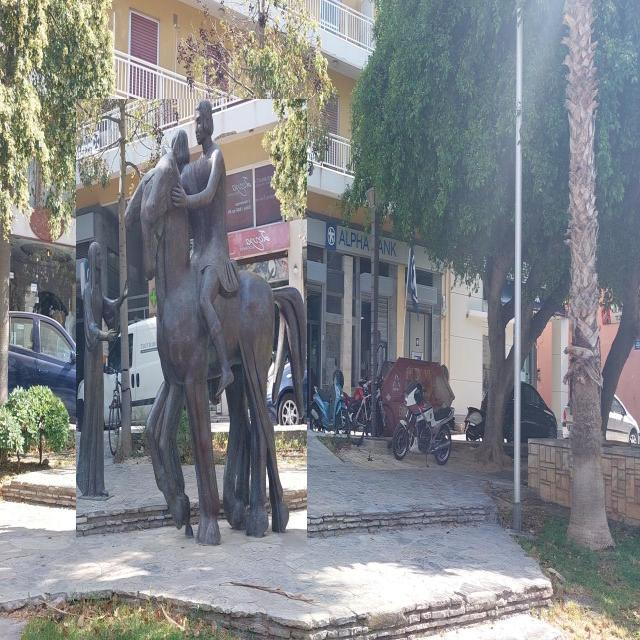Aretousa: (77, 100, 308, 548)
